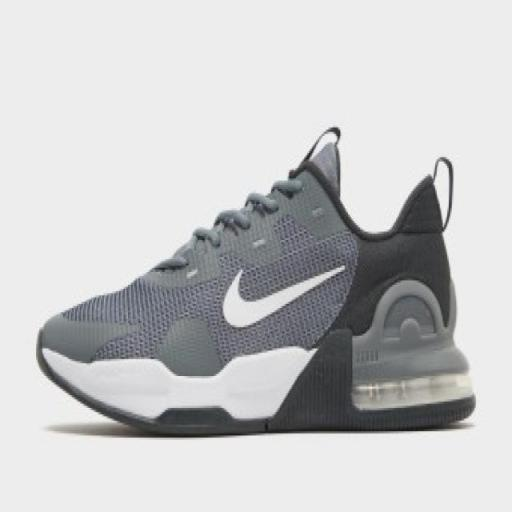Nike: (220, 256, 348, 334)
